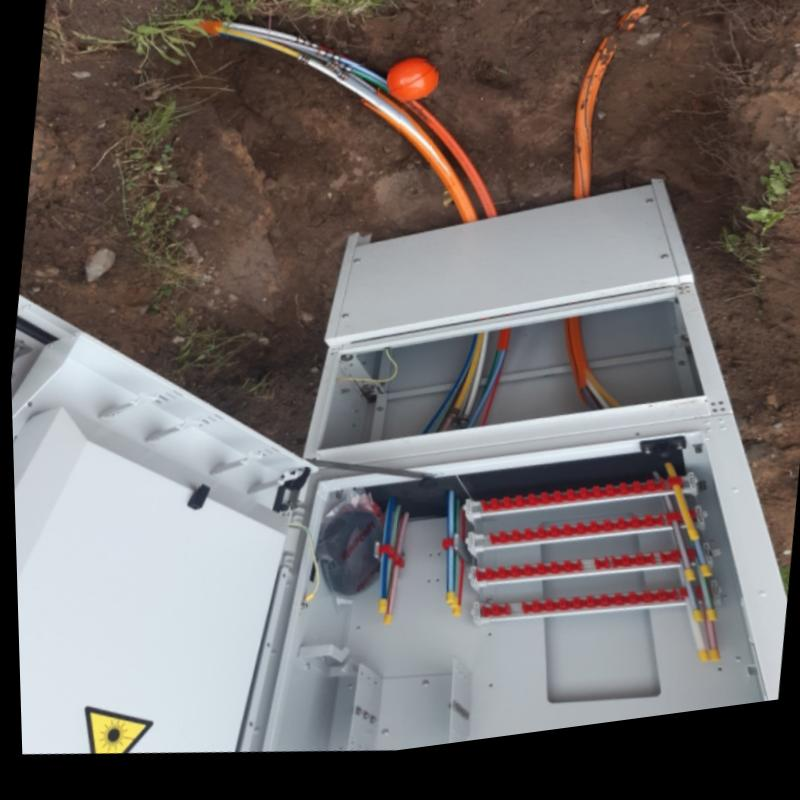Kugelmarker: (385, 72, 435, 110)
Orang-Speednetrohrchen: (335, 75, 494, 231), (573, 52, 628, 211)
